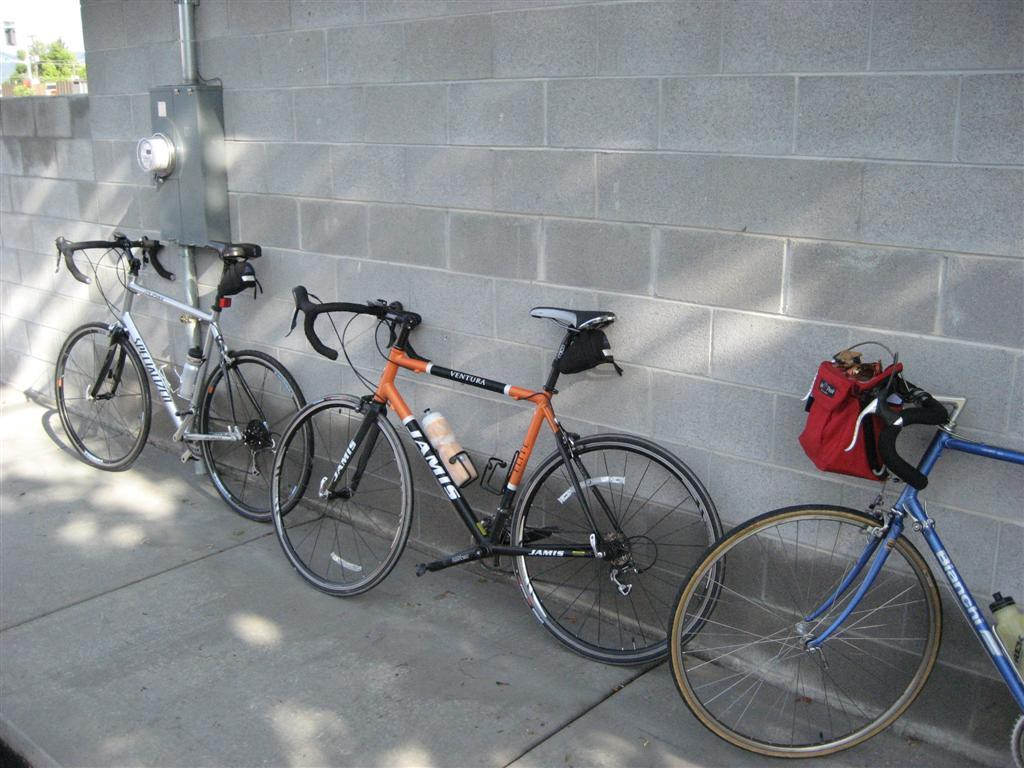Bike: (268, 315, 702, 672), (30, 240, 309, 546)
